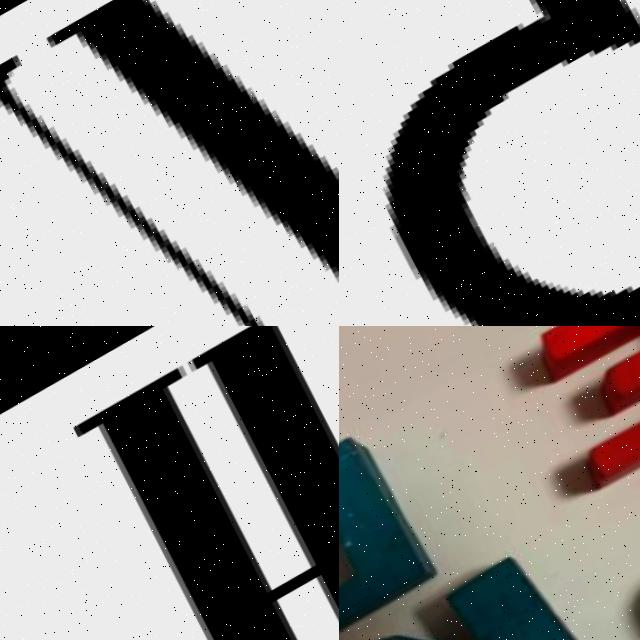5: (339, 0, 640, 326)
D: (339, 416, 451, 640)
E: (511, 326, 640, 510)
H: (56, 326, 339, 640)
K: (339, 550, 603, 640)
U: (0, 0, 339, 326)
